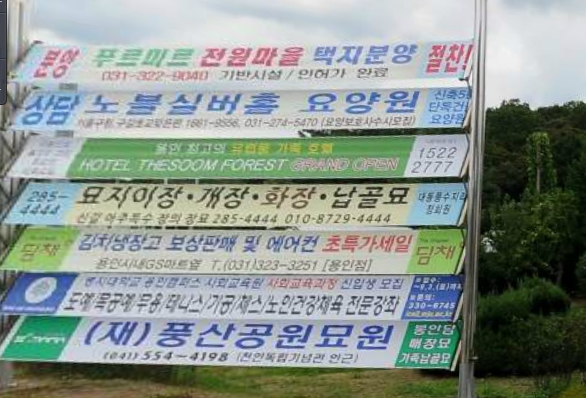banner: (4, 310, 480, 375), (6, 268, 479, 323), (1, 221, 477, 275), (2, 81, 490, 132), (3, 133, 488, 184), (2, 178, 474, 228), (9, 38, 491, 85)
